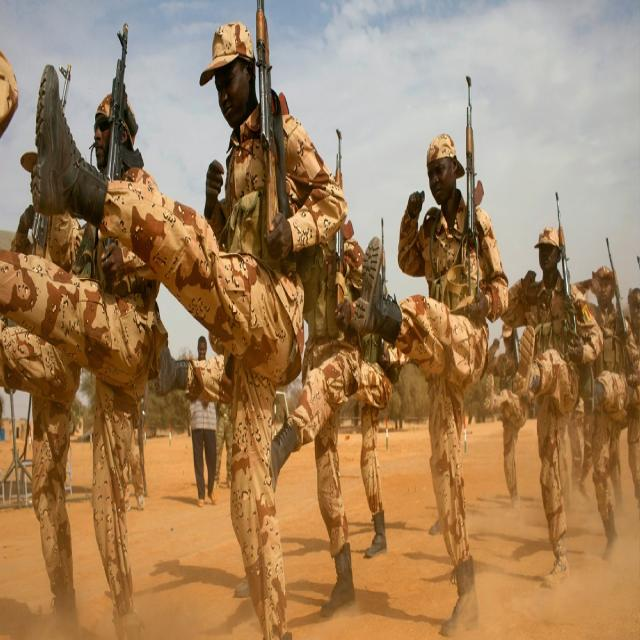body: (28, 12, 352, 639), (0, 89, 172, 639), (351, 131, 510, 639), (270, 169, 367, 622), (0, 147, 85, 635), (500, 222, 605, 590), (304, 247, 392, 560), (570, 262, 640, 562), (560, 389, 633, 522), (483, 322, 530, 508), (185, 330, 222, 510), (117, 410, 153, 517), (626, 285, 640, 508), (212, 400, 234, 492)
